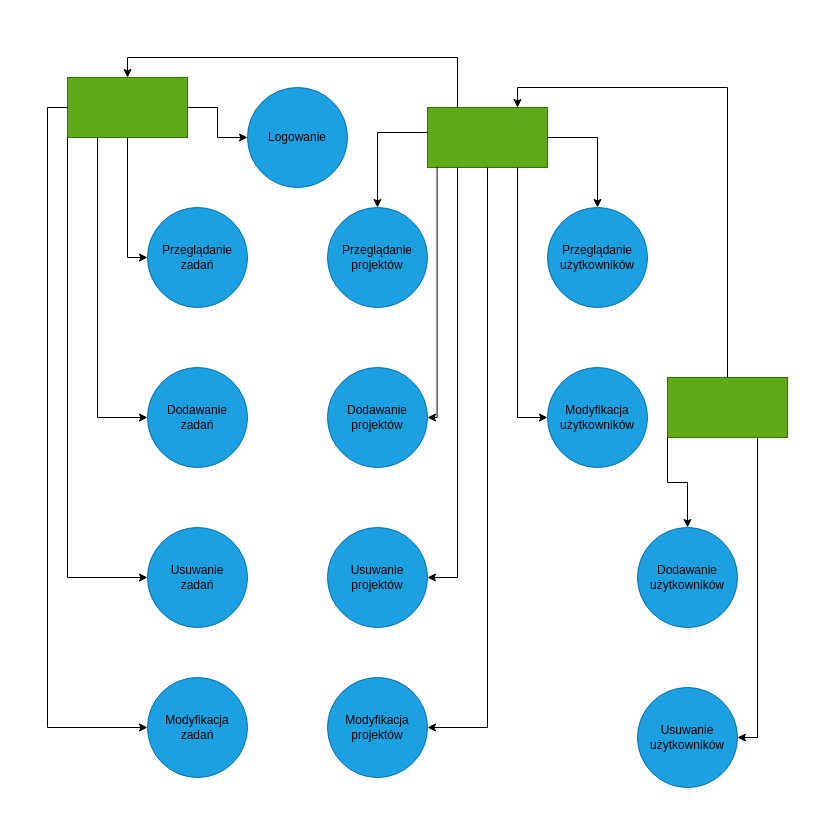
Some shapes in this 824 by 824 pixel diagram are drawn without their labels. Each missing label, with the centre of its shape:
Administrator: the point at 727,407
Użytkownik-manager: the point at 487,137
Użytkownik-reader: the point at 127,107
